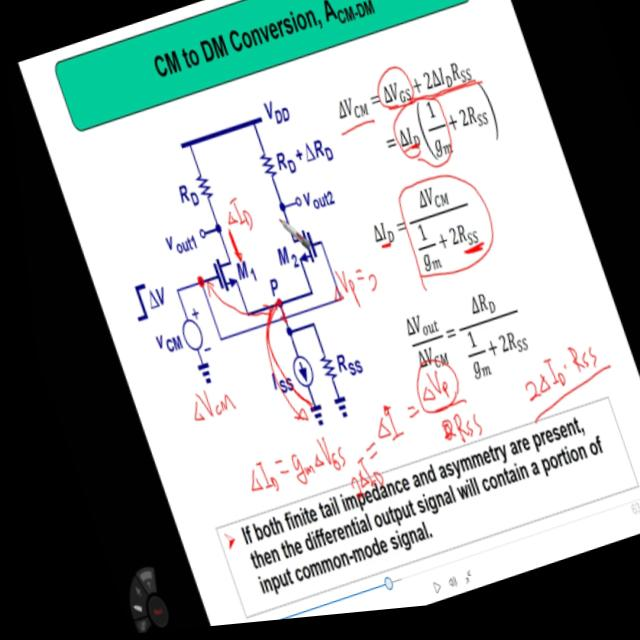panseo: (197, 346, 500, 546), (489, 334, 620, 443), (156, 368, 251, 449), (306, 253, 392, 333), (200, 181, 265, 257)
